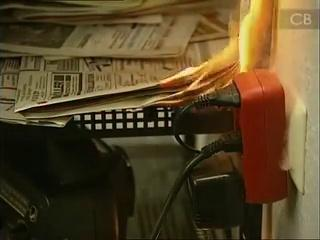Fire: (121, 1, 262, 119)
